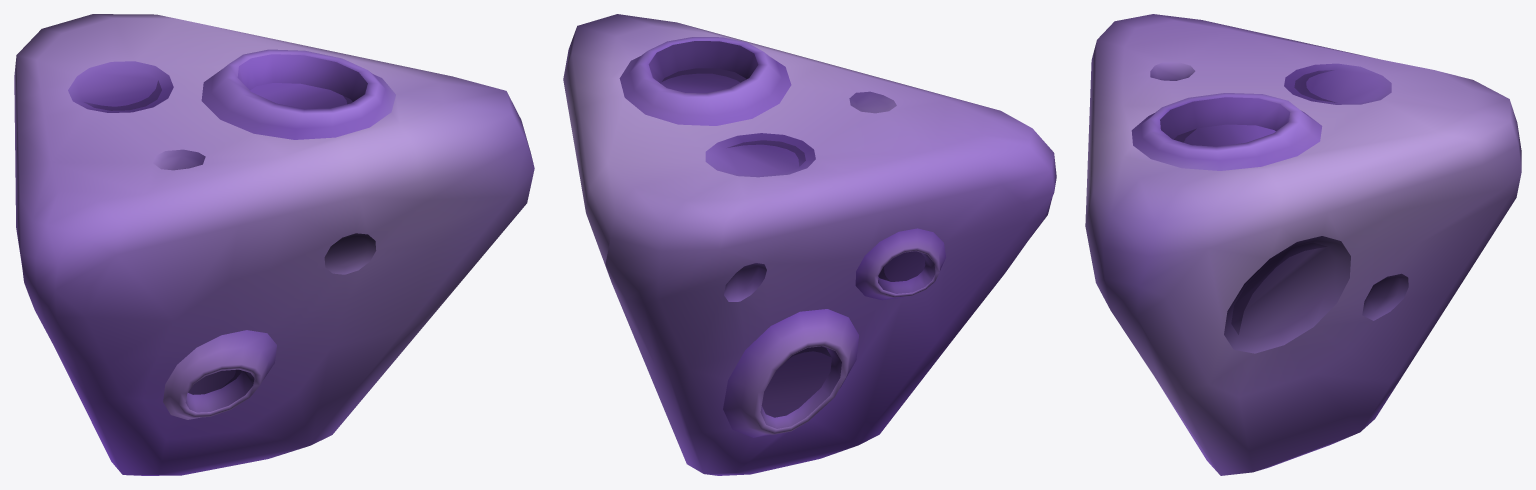
File: SM_Asteroid_02.fbx
3 renders of one model, left to right at view 1: azimuth 30°, elevation 25°; view 2: azimuth 150°, elevation 25°; view 3: azimuth 270°, elevation 25°, orthographic. The views are drawn at different scales.
Parts seen in each view (by area): view 1: SM_Asteroid_02; view 2: SM_Asteroid_02; view 3: SM_Asteroid_02.
Boxes of the visible parts, left/top/right/bottom form: SM_Asteroid_02: left=14, top=14, right=534, bottom=475; SM_Asteroid_02: left=563, top=14, right=1056, bottom=475; SM_Asteroid_02: left=1085, top=14, right=1521, bottom=475.
Bounding box in the file's own units: 9.38 × 6.61 × 7.33.
